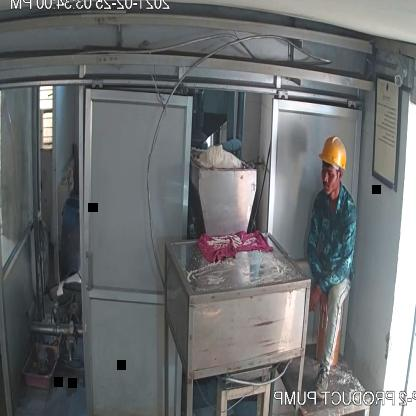helmet: (318, 134, 350, 173)
